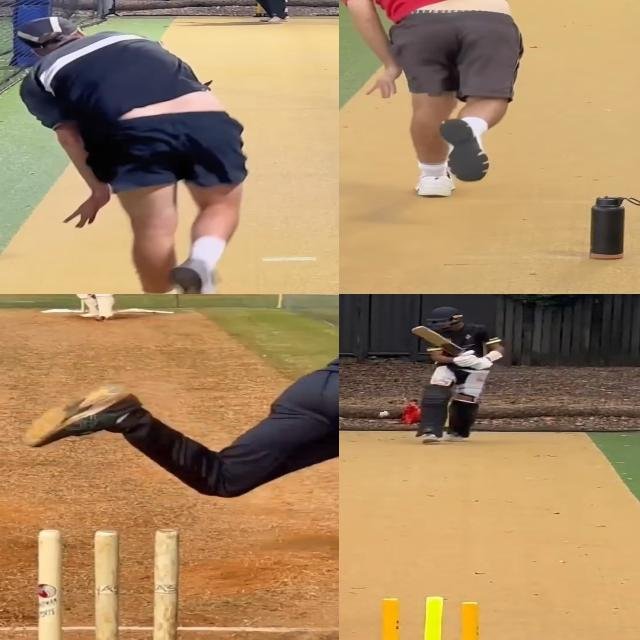Cricket ball: (377, 411, 391, 419), (94, 316, 106, 322)
Stumps: (36, 528, 178, 640), (356, 595, 499, 640)
